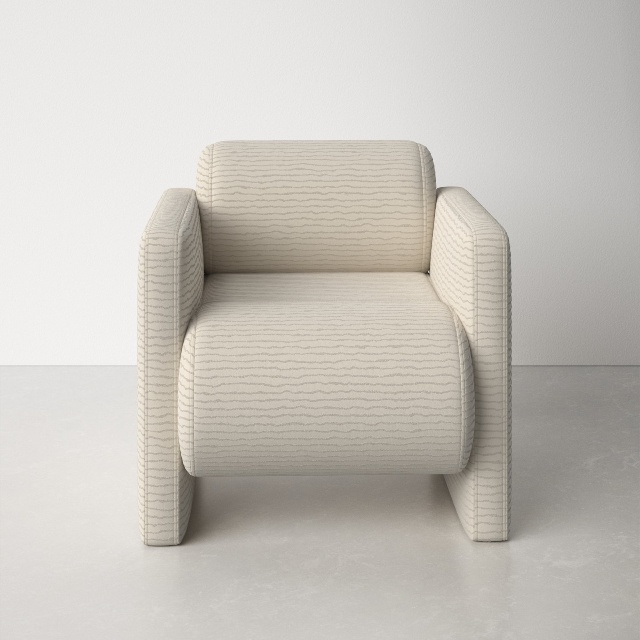obstacle: (138, 140, 510, 545)
